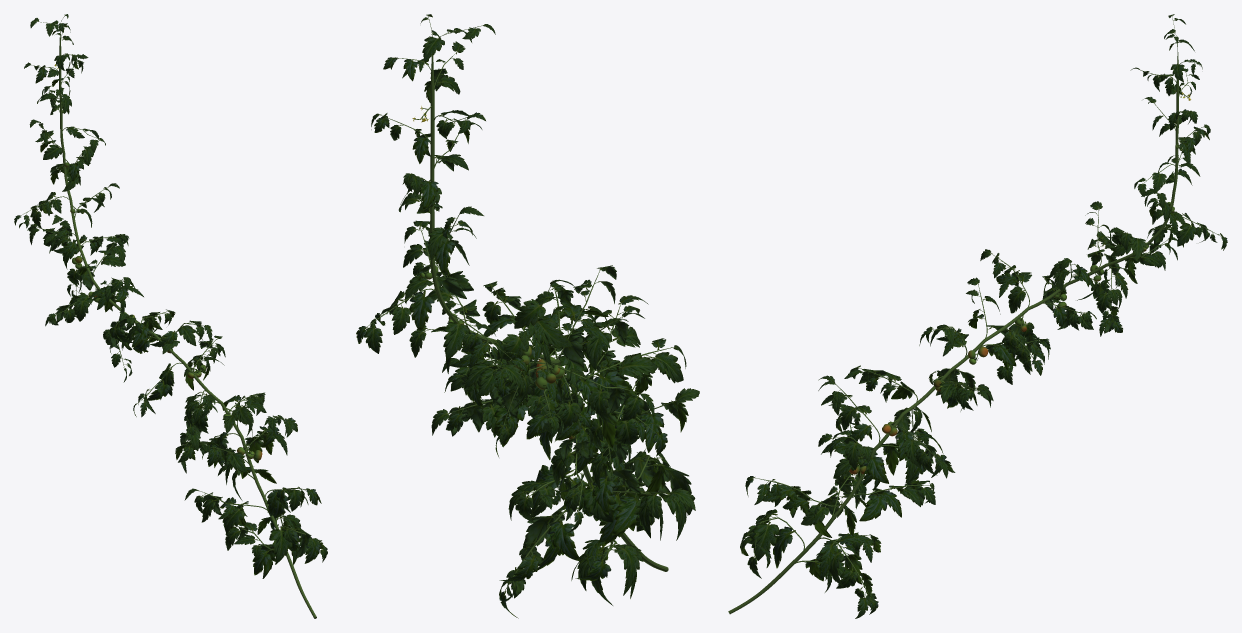
File: tomato_016.glb
3 renders of one model, left to right at view 1: azimuth 30°, elevation 25°; view 2: azimuth 150°, elevation 25°; view 3: azimuth 270°, elevation 25°, orthographic. The views are drawn at different scales.
Visible parts, largest first — view 1: tomato_016; view 2: tomato_016; view 3: tomato_016.
Part boxes in pixels (bbox=[...]): tomato_016: bbox=[14, 14, 327, 618]; tomato_016: bbox=[356, 14, 699, 618]; tomato_016: bbox=[728, 14, 1227, 618].
Size of the model in its own units: 1 by 2.63 by 2.16.
17 materials, 16 textured.
